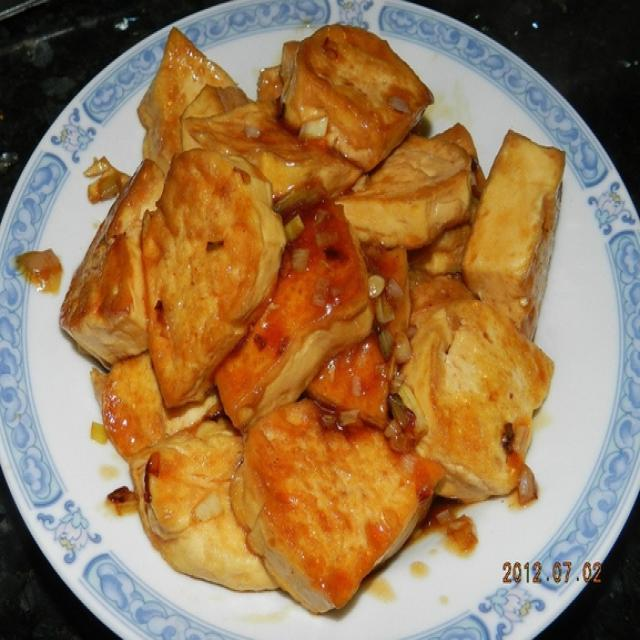豆腐料理: (21, 10, 613, 624)
